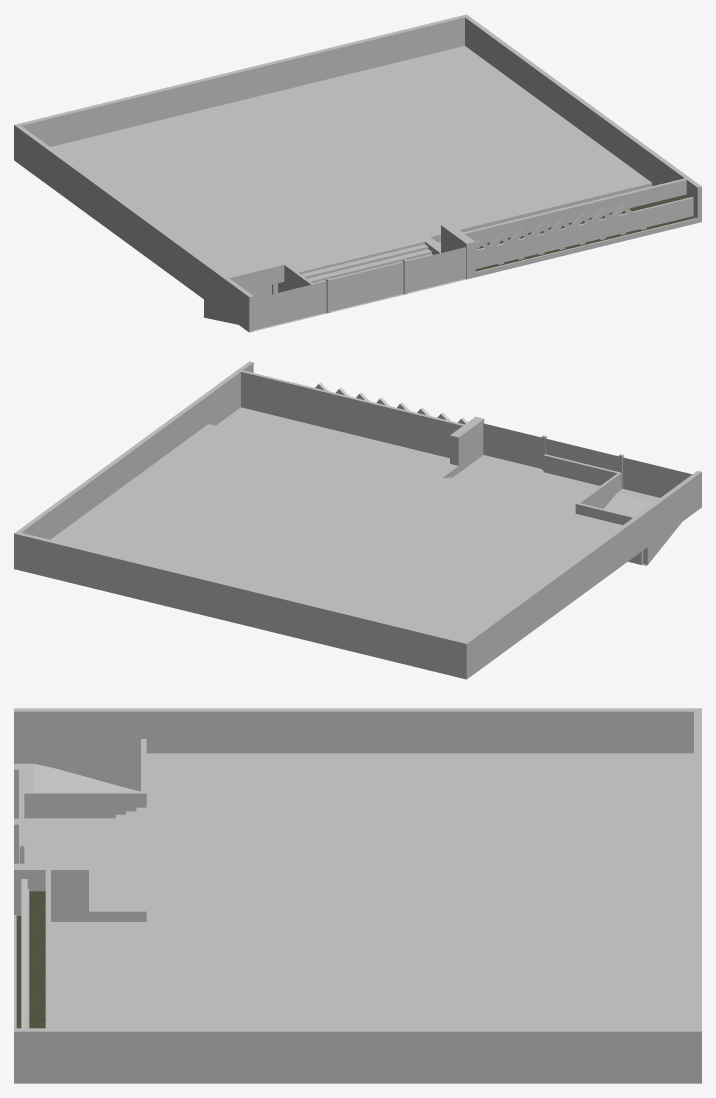
The picture shows the model from 3 angles, top to bottom: view 1: azimuth 30°, elevation 25°; view 2: azimuth 150°, elevation 25°; view 3: azimuth 270°, elevation 25°; orthographic projection. The views are drawn at different scales.
Visible parts, largest first — view 1: Base-13; view 2: Base-13; view 3: Base-13.
Part boxes in pixels (bbox=[...]): Base-13: bbox=[14, 14, 701, 332]; Base-13: bbox=[14, 361, 701, 679]; Base-13: bbox=[14, 708, 701, 1083].
Size of what is drawn, in the model's own units: 40 by 4.9 by 36.
